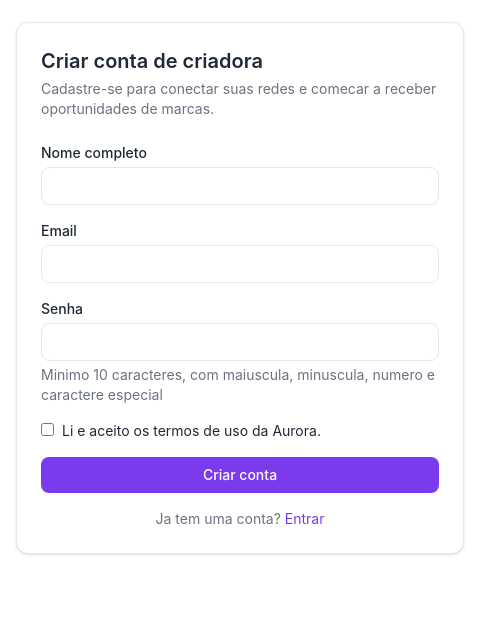
RegisterPage - US-24.1 step 1 (self-registration) › shows the server error message when registration fails
Step 1. Type "Duda Oliveira" into the field labelled "Nome completo" → (240, 186), box [41, 167, 439, 205]
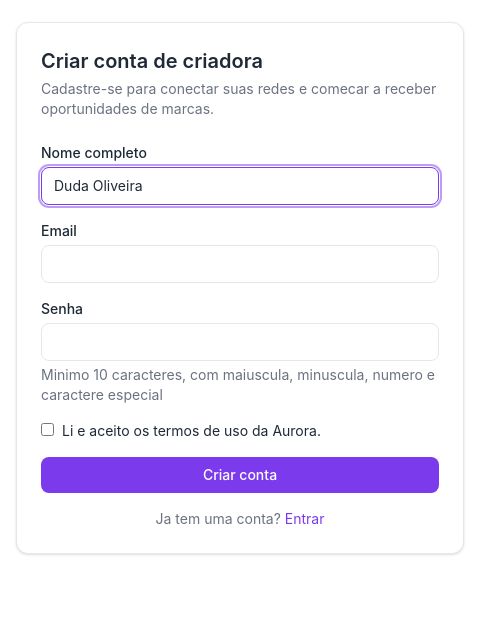
Step 2. Type "duda@example.com" into the field labelled "Email" → (240, 264), box [41, 245, 439, 283]
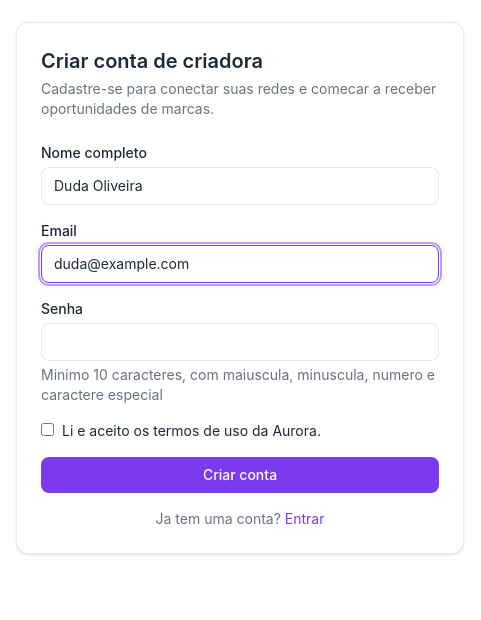
Step 3. Type "StrongP@ss1" into the password field labelled "Senha" → (240, 342), box [41, 323, 439, 361]
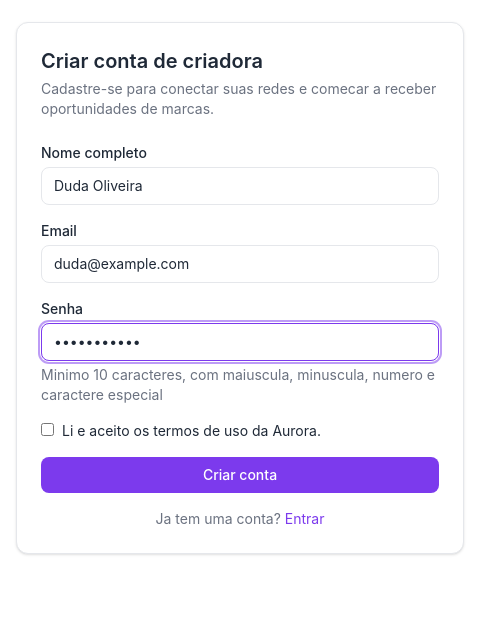
Step 4. Click the checkbox → (48, 430), box [41, 423, 54, 436]
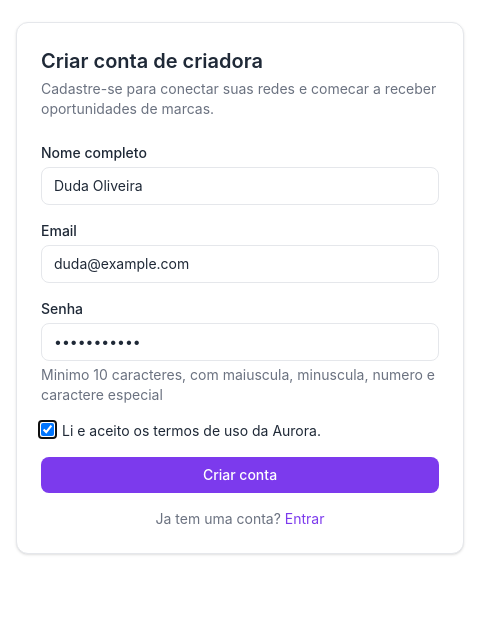
Step 5. Click the button "Criar conta" → (240, 475), box [41, 457, 439, 493]
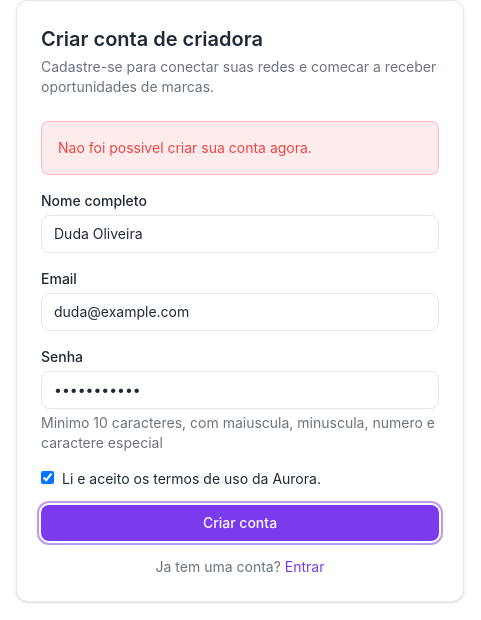
expect the text "Nao foi possivel criar sua conta agora." is shown: met, box [41, 121, 439, 175]
